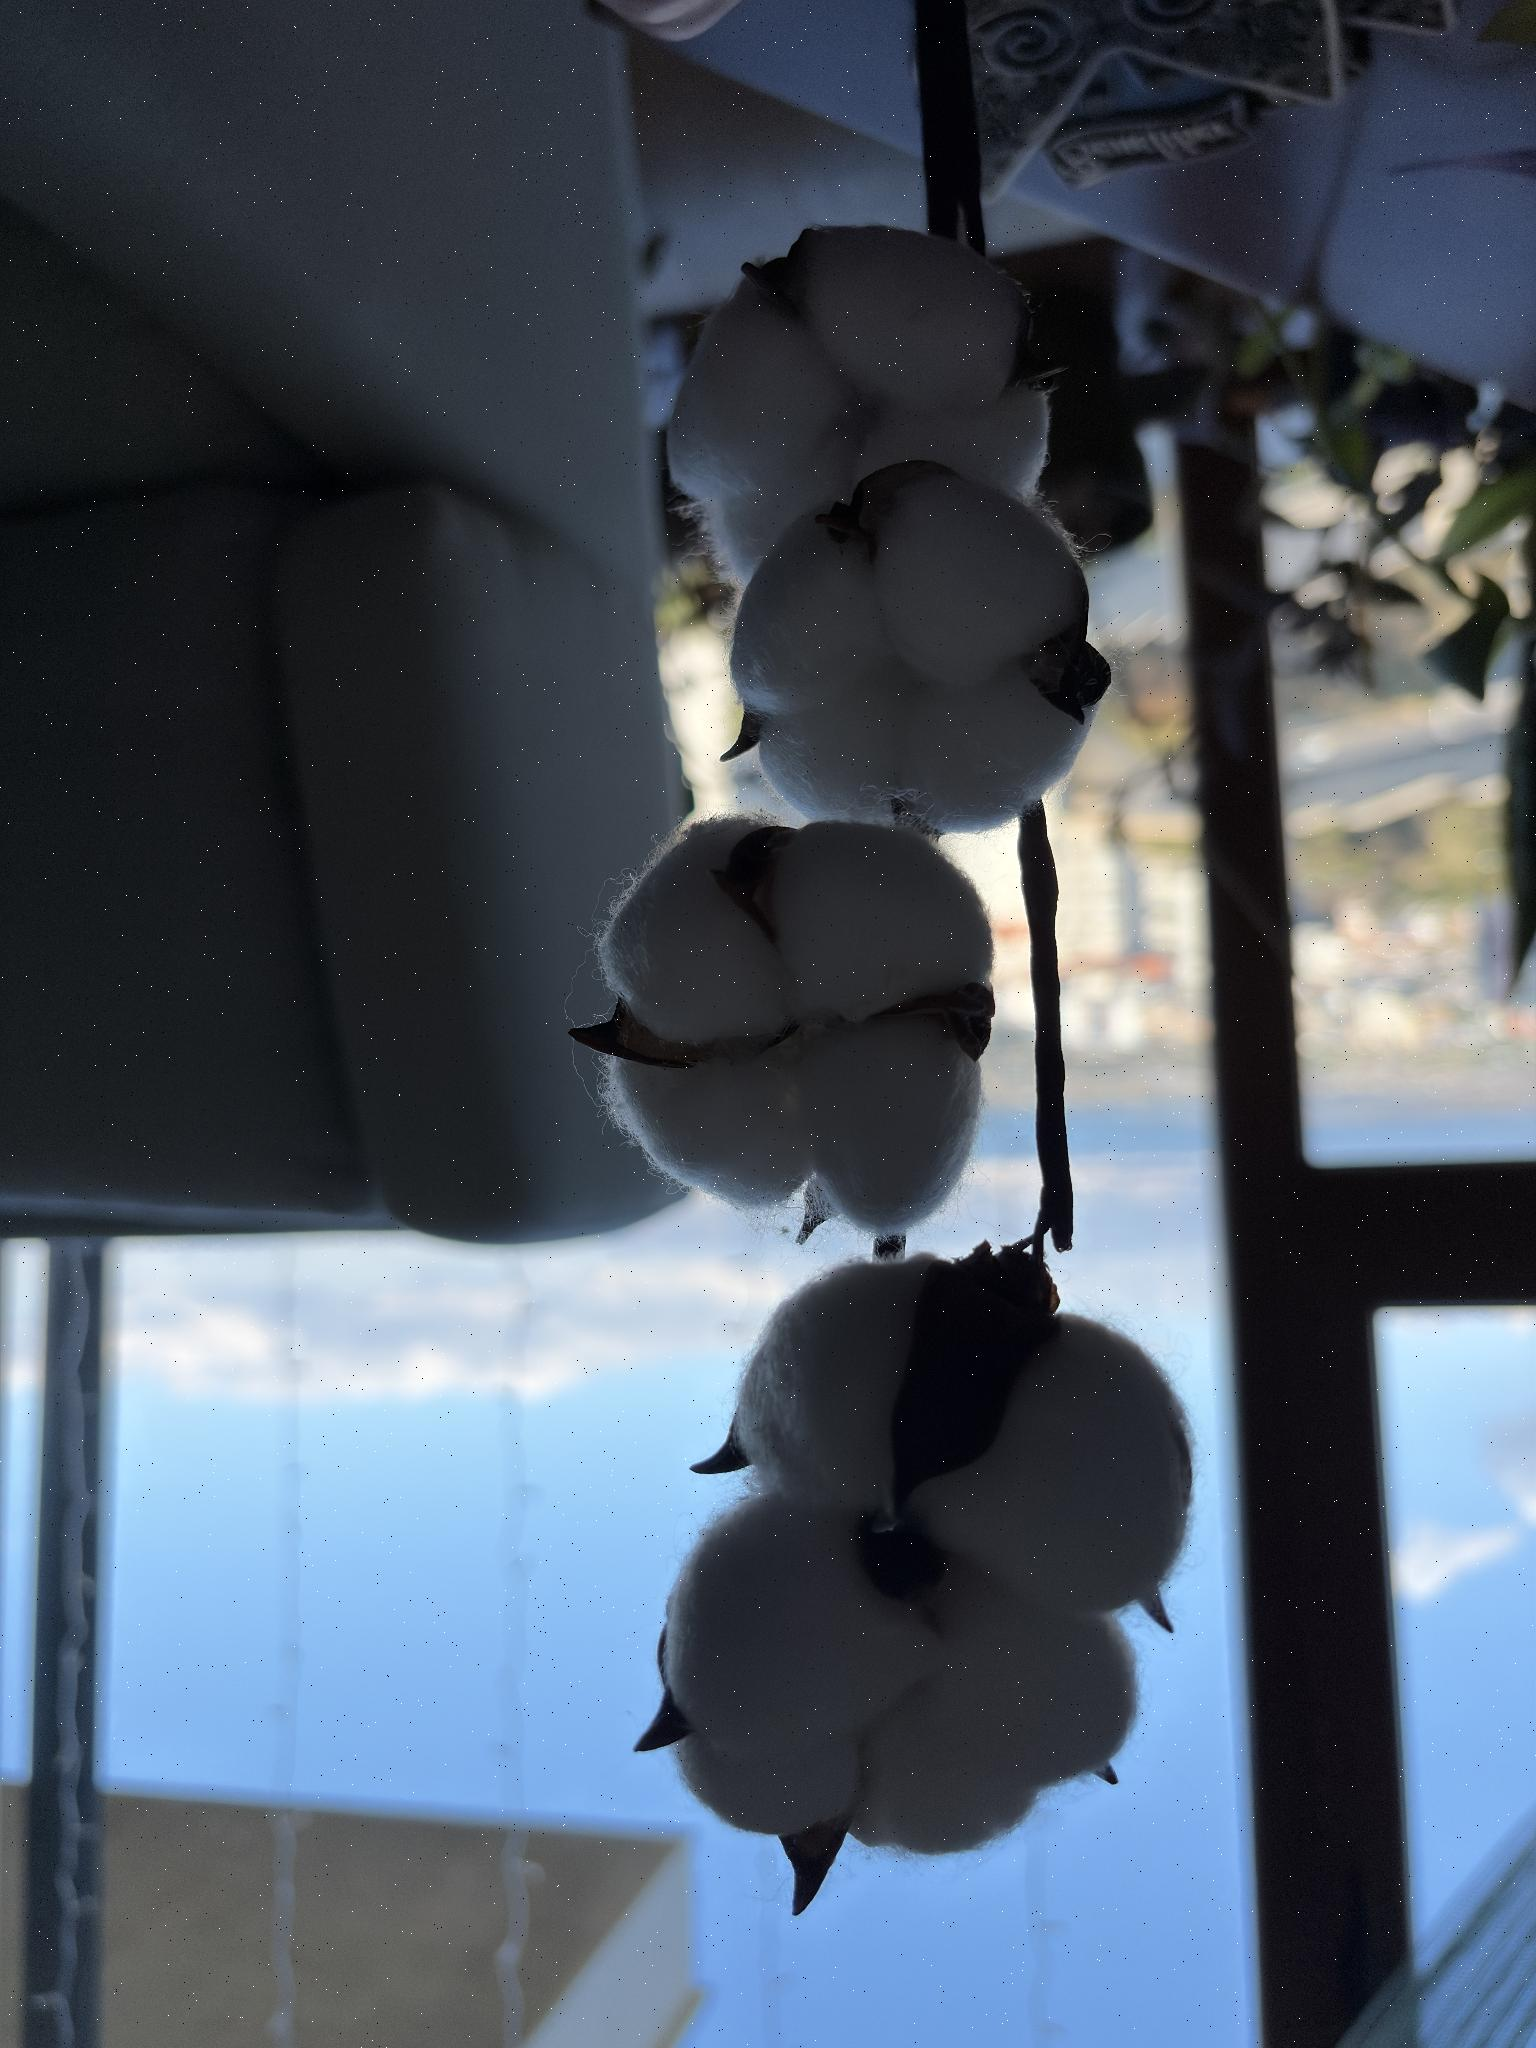cotton_boll: (915, 1317, 1191, 1614), (663, 1498, 937, 1763), (734, 1255, 939, 1513), (934, 1559, 1137, 1785), (873, 474, 1086, 689), (768, 822, 991, 1022), (600, 819, 797, 1045), (792, 226, 1023, 411), (799, 1013, 981, 1237), (668, 284, 852, 500), (605, 1047, 812, 1209), (897, 664, 1094, 832), (849, 1688, 1037, 1854), (731, 514, 878, 719), (700, 414, 866, 585), (760, 664, 912, 821), (852, 384, 1047, 498), (670, 1734, 858, 1837)
cotton_boll-cluster: (657, 1250, 1197, 1864), (592, 811, 997, 1242), (660, 221, 1058, 592), (723, 466, 1102, 842)
